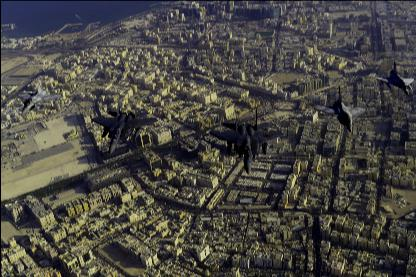F117: (208, 105, 284, 173), (90, 95, 158, 153)
Mirage2000: (374, 60, 414, 94)
RQ4: (313, 86, 367, 132), (13, 75, 62, 115)
